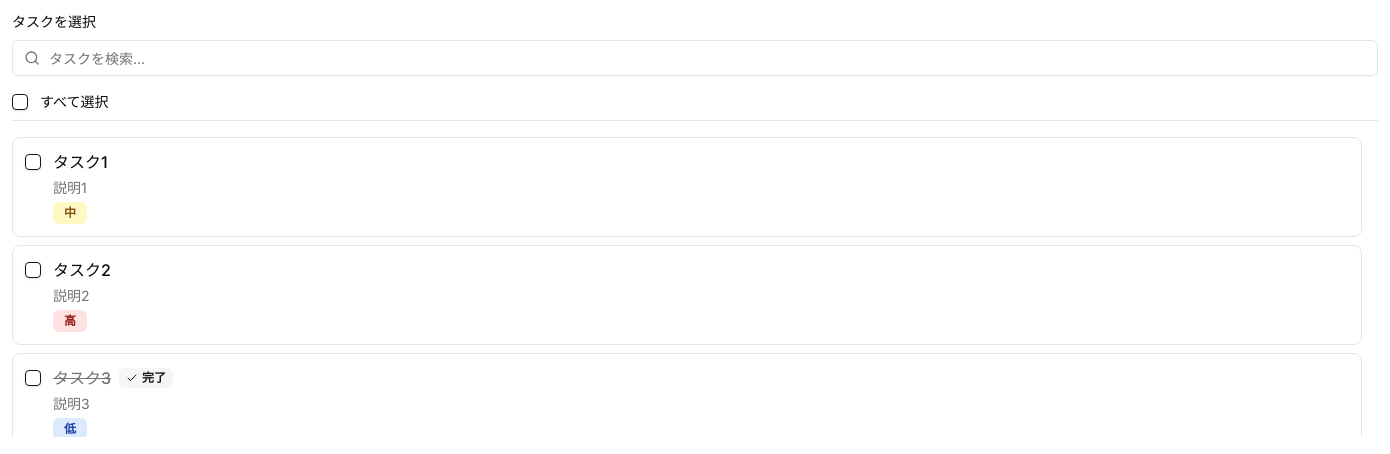
Test: TaskSelector › フィルタリングができる
In the field with placeholder "タスクを検索...": (695, 58) [12, 40, 1378, 76], type "タスク2"
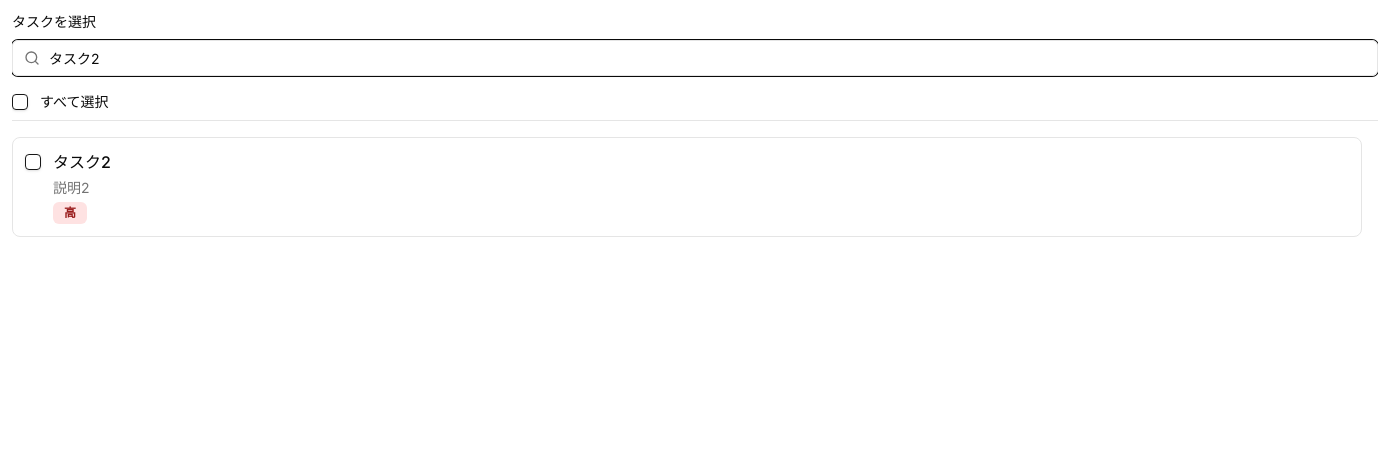
Expected: the text "タスク2" is shown, [53, 150, 111, 174]
Expected: the text "タスク1" is gone
Expected: the text "タスク3" is gone
